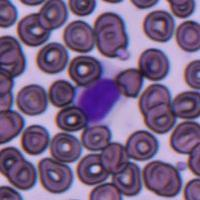L: (77, 76, 123, 123)
